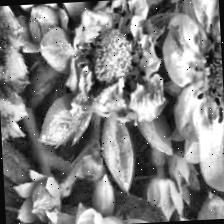Blossom Blight: (71, 5, 152, 102), (188, 16, 224, 126)
